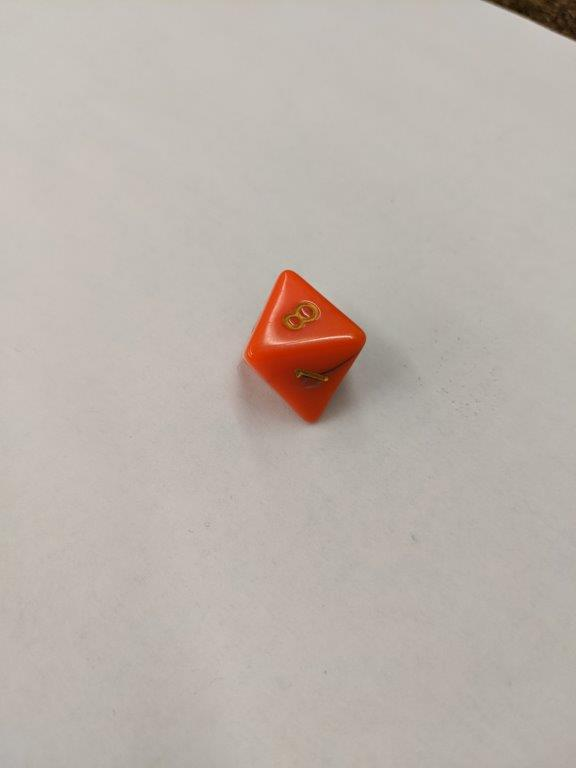d8-8: (240, 266, 368, 431)
